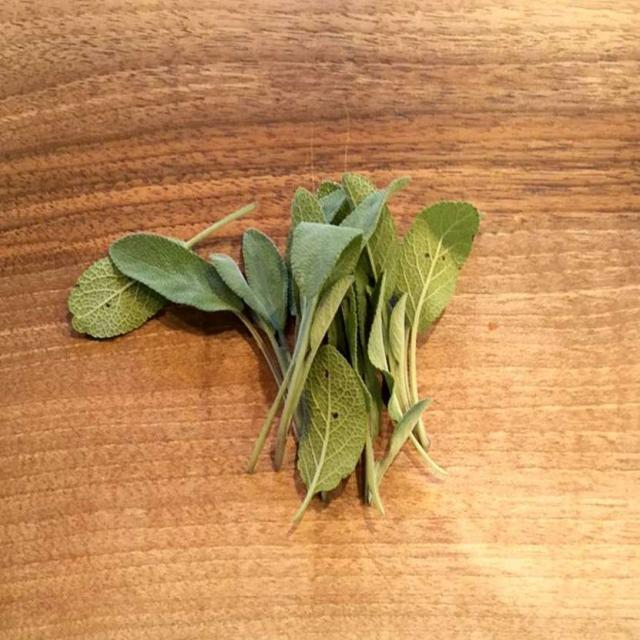bouquet-garni: (74, 190, 495, 517)
